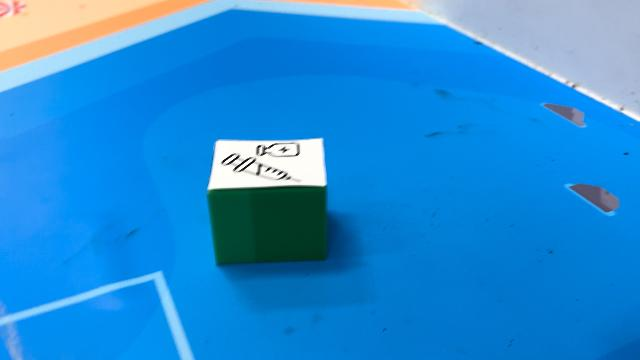syringe: (206, 137, 328, 265)
